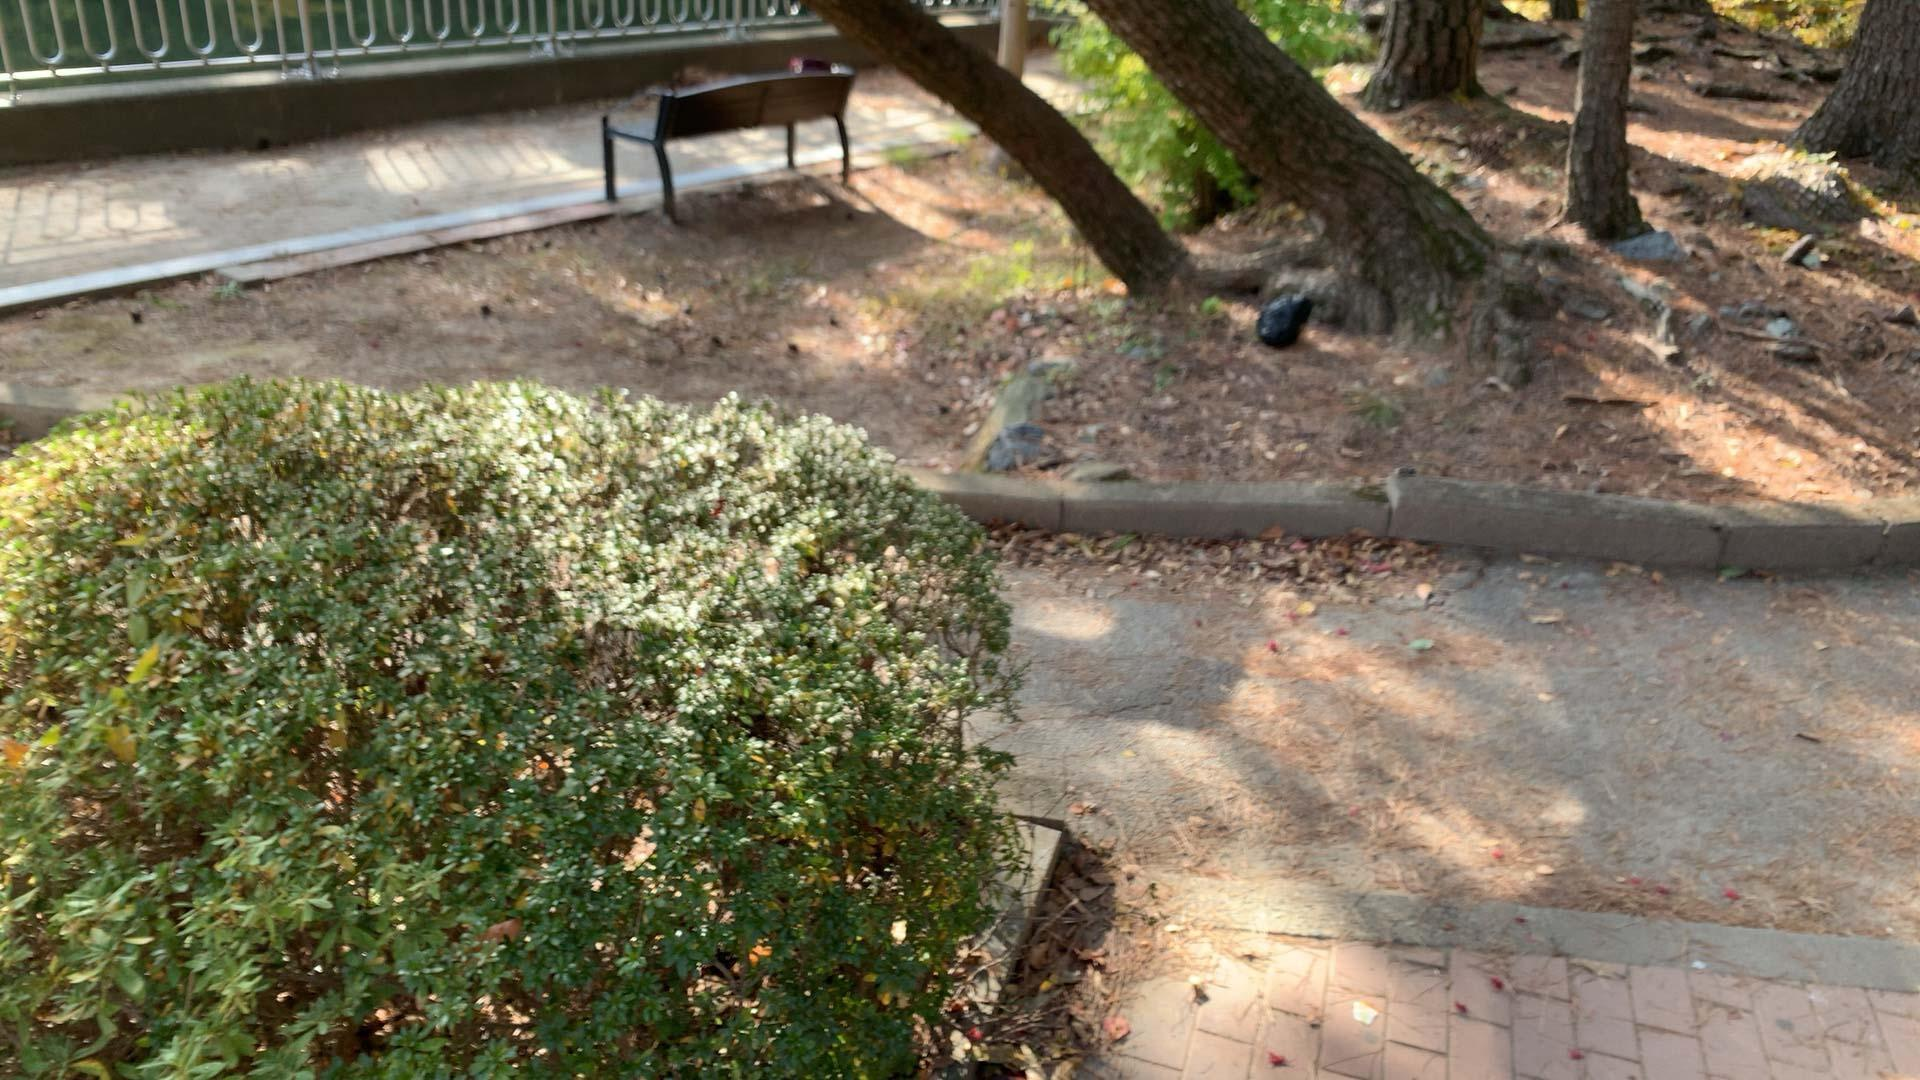black_bag: (1257, 280, 1324, 356)
